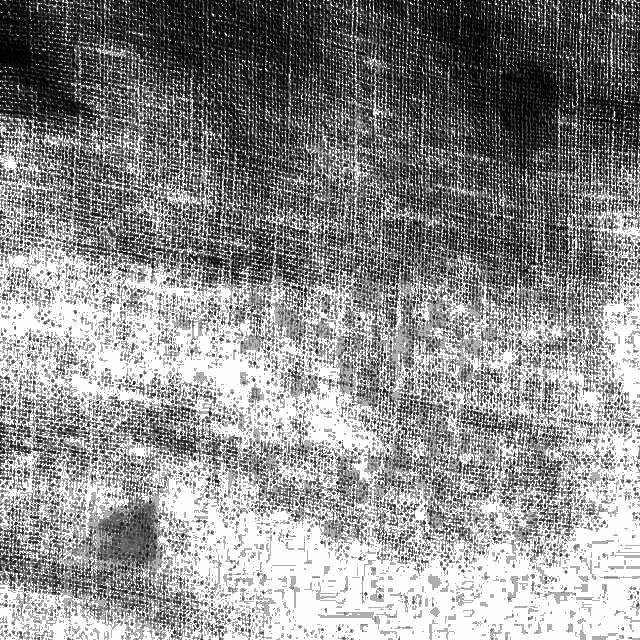Color_defect: (484, 59, 557, 169)
